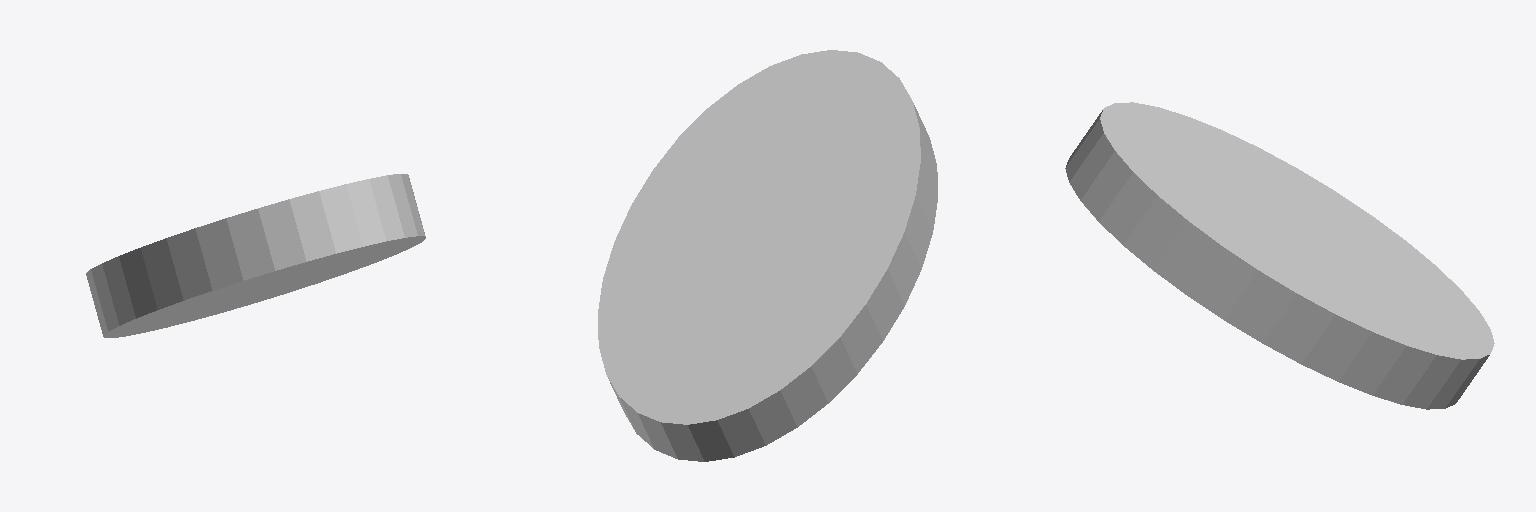
The model's file is lewe_male.obj.
3 views of the same model, side by side, from view 1: azimuth 30°, elevation 25°; view 2: azimuth 150°, elevation 25°; view 3: azimuth 270°, elevation 25° (orthographic).
Parts seen in each view (by area): view 1: Walec.003; view 2: Walec.003; view 3: Walec.003.
Boxes of the visible parts, x1=… form: Walec.003: x1=86, y1=174, x2=425, y2=337; Walec.003: x1=598, y1=50, x2=937, y2=461; Walec.003: x1=1065, y1=102, x2=1494, y2=409.
Size of the model in its own units: 1.05 by 1.07 by 1.51.